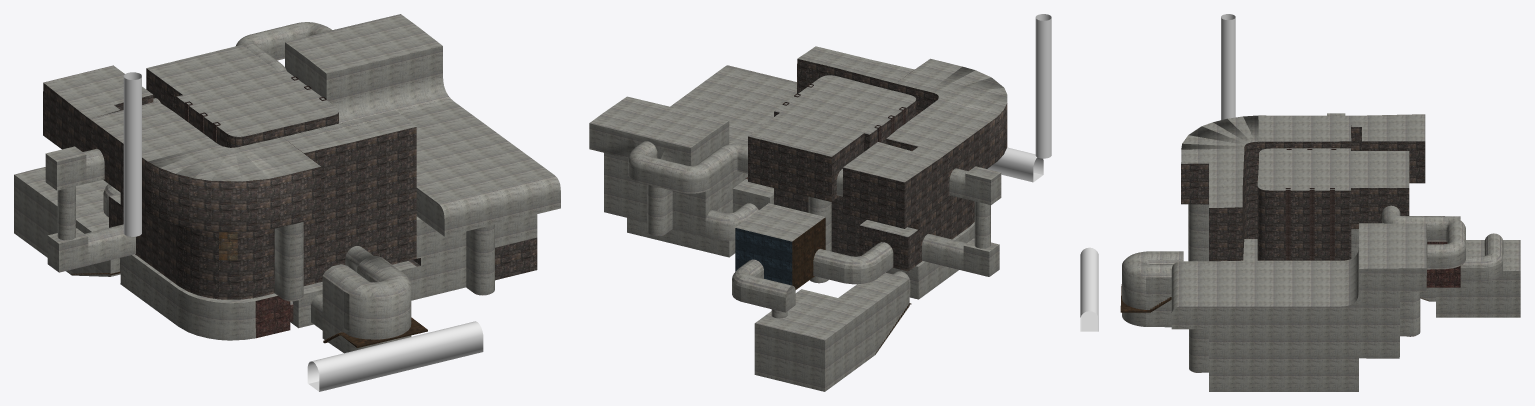
The picture shows the model from 3 angles, left to right: view 1: azimuth 30°, elevation 25°; view 2: azimuth 150°, elevation 25°; view 3: azimuth 270°, elevation 25°; orthographic projection. The views are drawn at different scales.
Visible parts, largest first — view 1: Polygon, Cylinder002, Cylinder004; view 2: Polygon, Cylinder004, Cylinder002; view 3: Polygon, Cylinder002, Cylinder004, Box006, Box007.
Boxes of the visible parts, x1,y1,x2,y2 form: Polygon: [14, 14, 560, 353]; Cylinder002: [307, 321, 483, 391]; Cylinder004: [123, 72, 141, 236]; Polygon: [589, 46, 1007, 391]; Cylinder004: [1035, 14, 1051, 158]; Cylinder002: [987, 147, 1043, 182]; Polygon: [1120, 113, 1520, 391]; Cylinder002: [1080, 247, 1098, 331]; Cylinder004: [1221, 14, 1235, 119]; Box006: [1309, 188, 1314, 260]; Box007: [1285, 188, 1290, 260].
Size of the model in its own units: 32.44 by 23.54 by 38.31.
